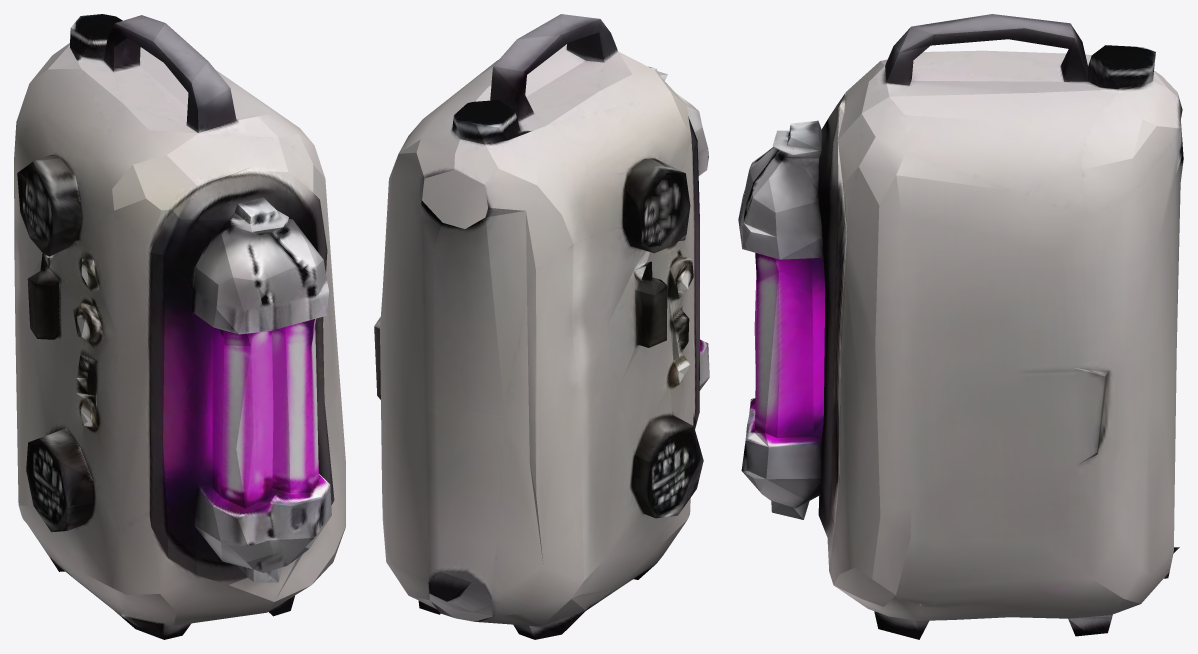
File: vacuum.glb
3 renders of one model, left to right at view 1: azimuth 30°, elevation 25°; view 2: azimuth 150°, elevation 25°; view 3: azimuth 270°, elevation 25°, orthographic. The views are drawn at different scales.
Parts seen in each view (by area): view 1: model; view 2: model; view 3: model.
Part boxes in pixels (box(x1,y1,x2,y2)): model: box(14, 14, 345, 639); model: box(374, 14, 709, 639); model: box(738, 14, 1183, 639).
Bounding box in the file's own units: 0.7937 × 1.61 × 1.13.
1 material, 1 textured.
